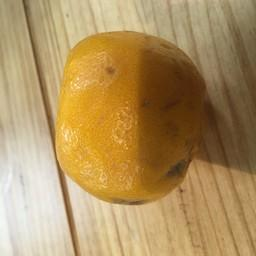Good_orange: (50, 28, 228, 208)
